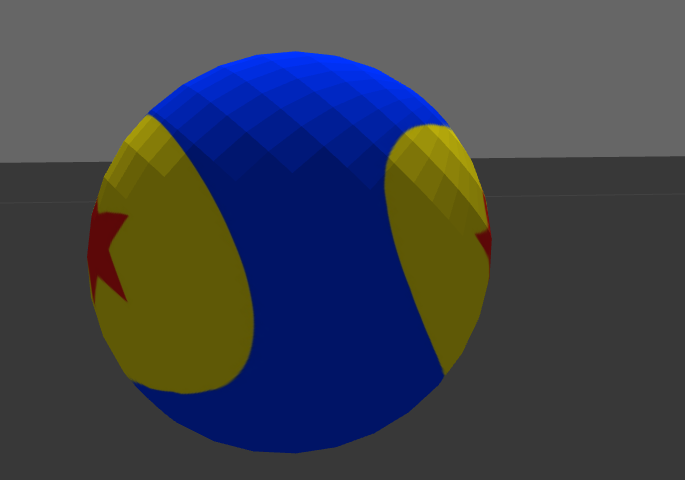toy story ball: (87, 52, 491, 453)
